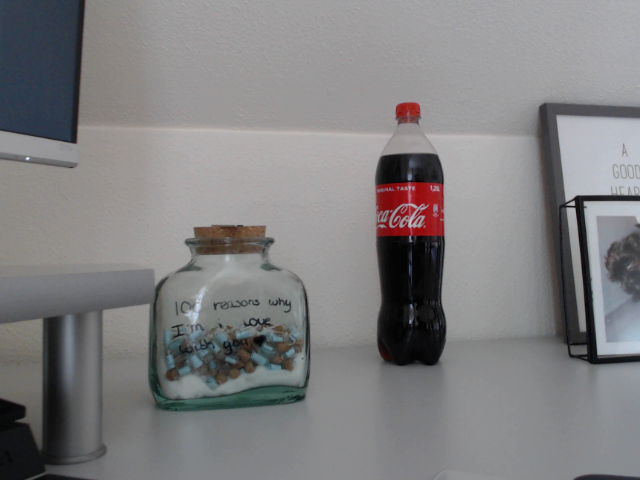bottle: (374, 102, 447, 366)
